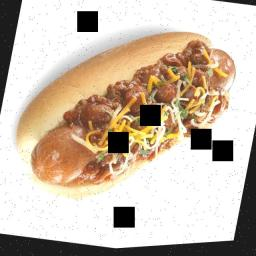hotdog: (4, 0, 246, 233)
